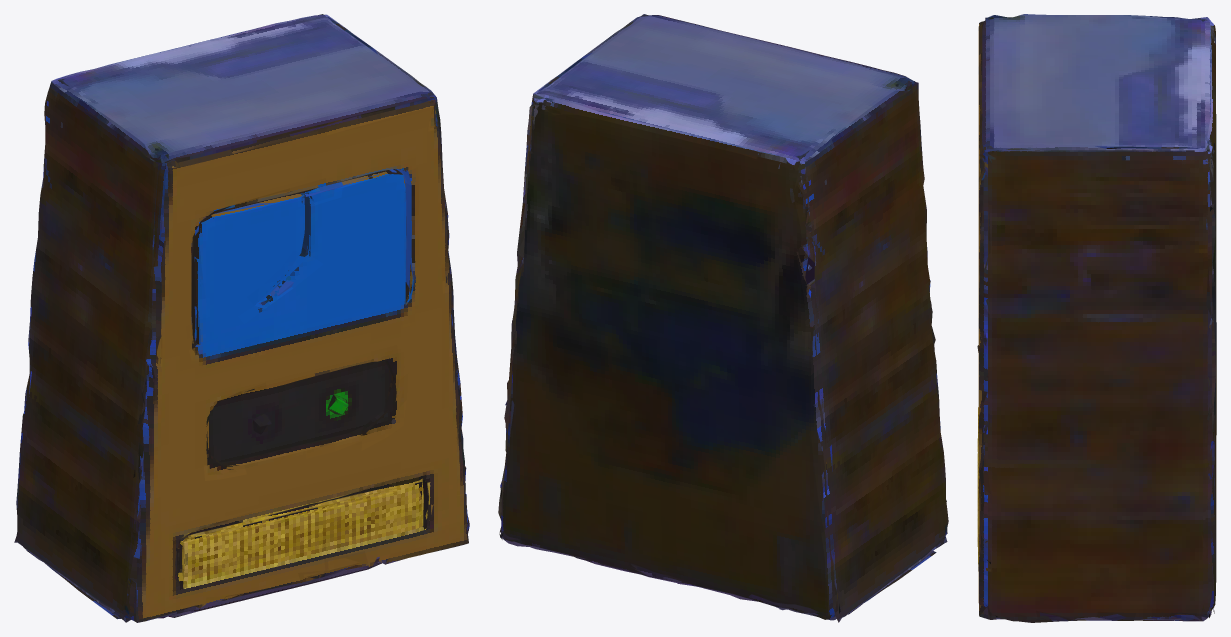
Rendered from Arcade_GoldMiner_QuadRetro.glb.
The picture shows the model from 3 angles, left to right: view 1: azimuth 30°, elevation 25°; view 2: azimuth 150°, elevation 25°; view 3: azimuth 270°, elevation 25°; orthographic projection.
Parts seen in each view (by area): view 1: Arcade_GoldMiner_QuadRemesh; view 2: Arcade_GoldMiner_QuadRemesh; view 3: Arcade_GoldMiner_QuadRemesh.
Boxes of the visible parts, box(x1,y1,x2,y2) form: Arcade_GoldMiner_QuadRemesh: box(14, 14, 469, 622); Arcade_GoldMiner_QuadRemesh: box(498, 14, 948, 622); Arcade_GoldMiner_QuadRemesh: box(977, 14, 1216, 622).
Bounding box in the file's own units: 1.56 × 2 × 0.9398.
1 material, 1 textured.
